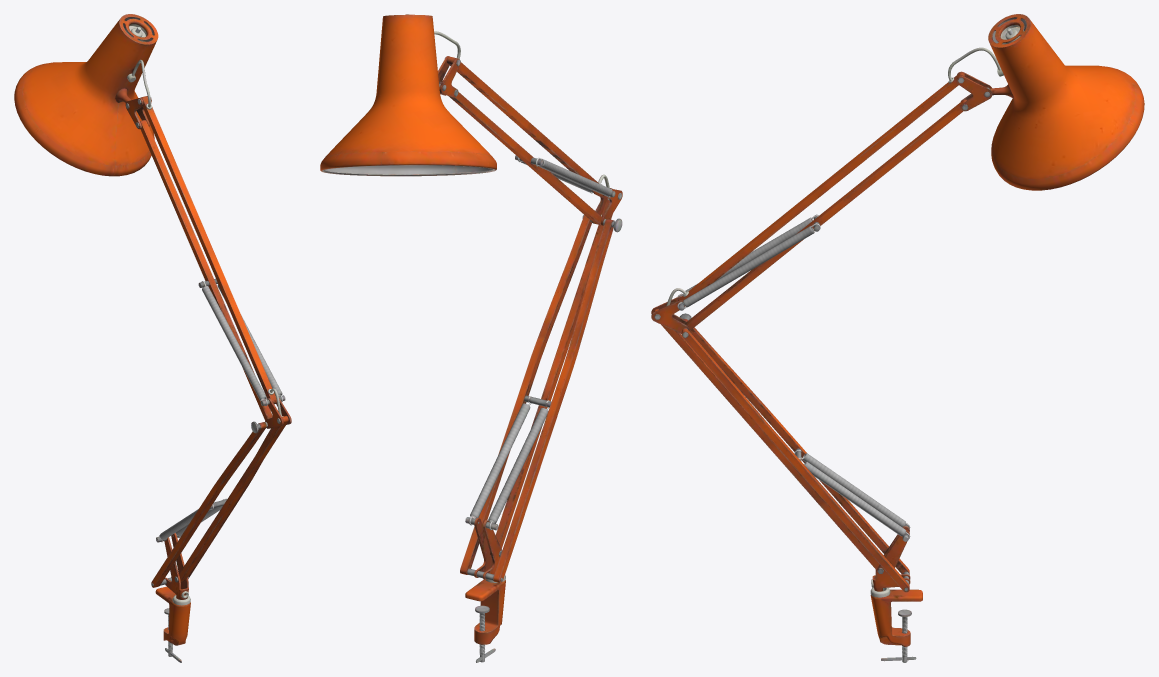
File: desk_lamp_arm_01.glb
3 renders of one model, left to right at view 1: azimuth 30°, elevation 25°; view 2: azimuth 150°, elevation 25°; view 3: azimuth 270°, elevation 25°, orthographic. The views are drawn at different scales.
Parts seen in each view (by area): view 1: desk_lamp_arm_01; view 2: desk_lamp_arm_01; view 3: desk_lamp_arm_01.
Part boxes in pixels (x1=…): desk_lamp_arm_01: x1=14, y1=14, x2=291, y2=662; desk_lamp_arm_01: x1=320, y1=14, x2=622, y2=662; desk_lamp_arm_01: x1=651, y1=14, x2=1144, y2=662.
Bounding box in the file's own units: 0.2018 × 0.8926 × 0.6139.
2 materials, 2 textured.
